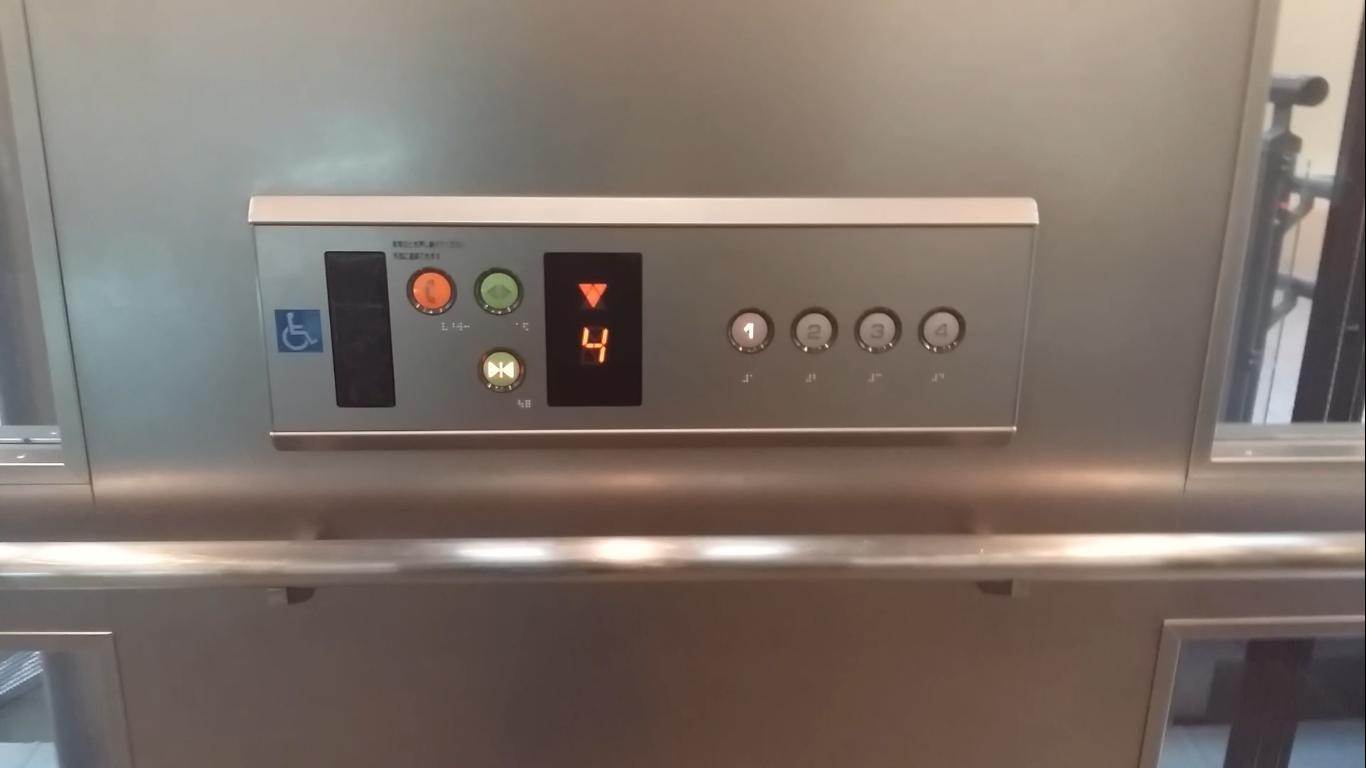1: (724, 306, 777, 357)
2: (786, 304, 839, 356)
3: (850, 302, 905, 355)
4: (915, 303, 971, 357)
CH: (270, 305, 325, 363)
call: (404, 264, 459, 318)
close: (475, 346, 529, 397)
led: (540, 248, 647, 410), (322, 245, 399, 413)
open: (472, 263, 526, 317)
